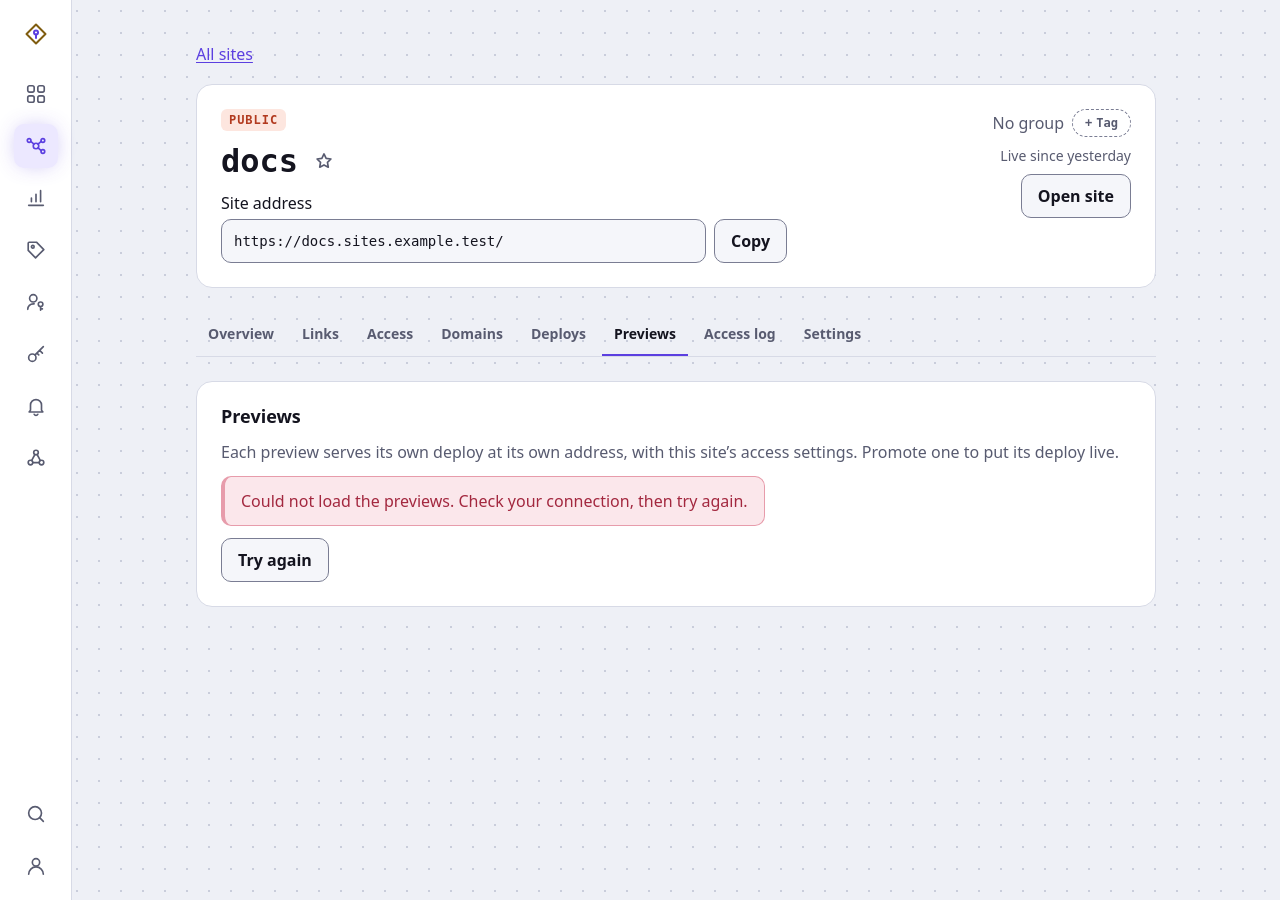
Test: previews on the site page › offers a retry when the list cannot load
Expected: the text "Could not load the previews. Check your connection, then try again." is shown, [221,476,765,526]
Click the button "Try again" at [275, 560], box [221,538,329,582]
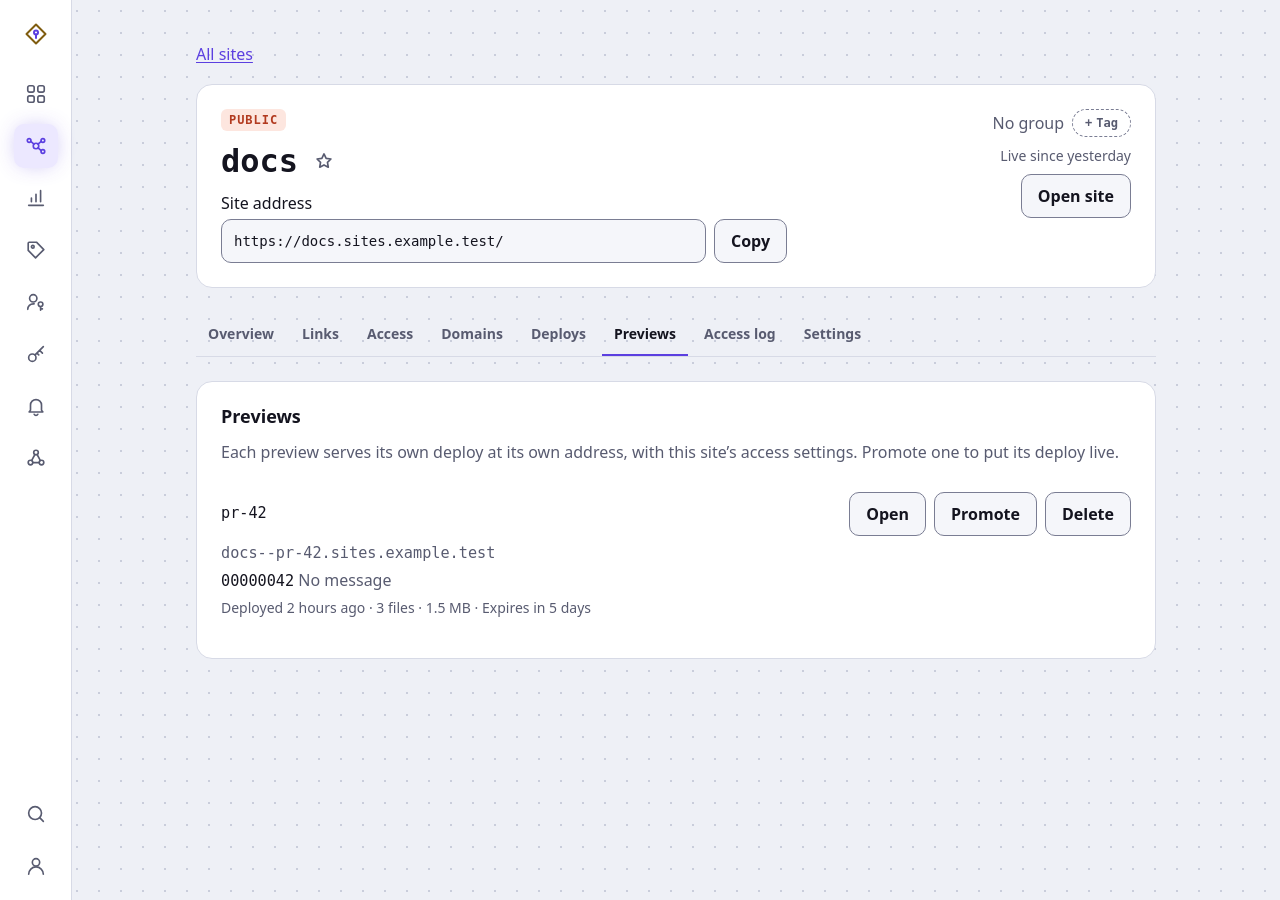
Now the list item "pr-42" is shown, box [221,476,1131,634]
